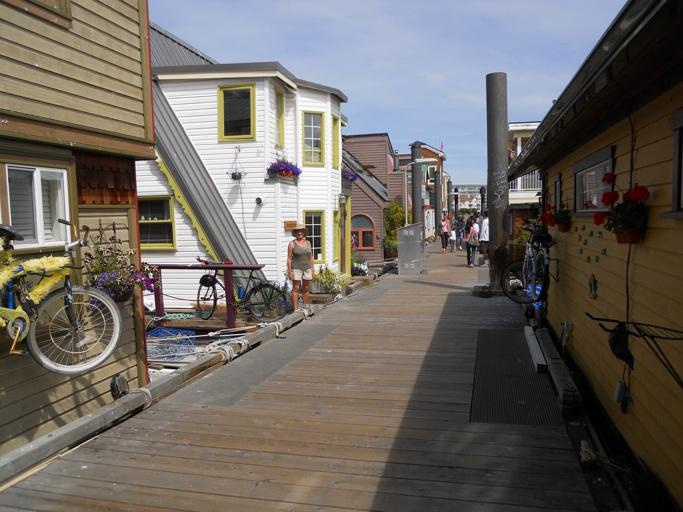non-vehicle: (0, 218, 121, 373), (194, 256, 287, 323), (499, 216, 555, 305)
